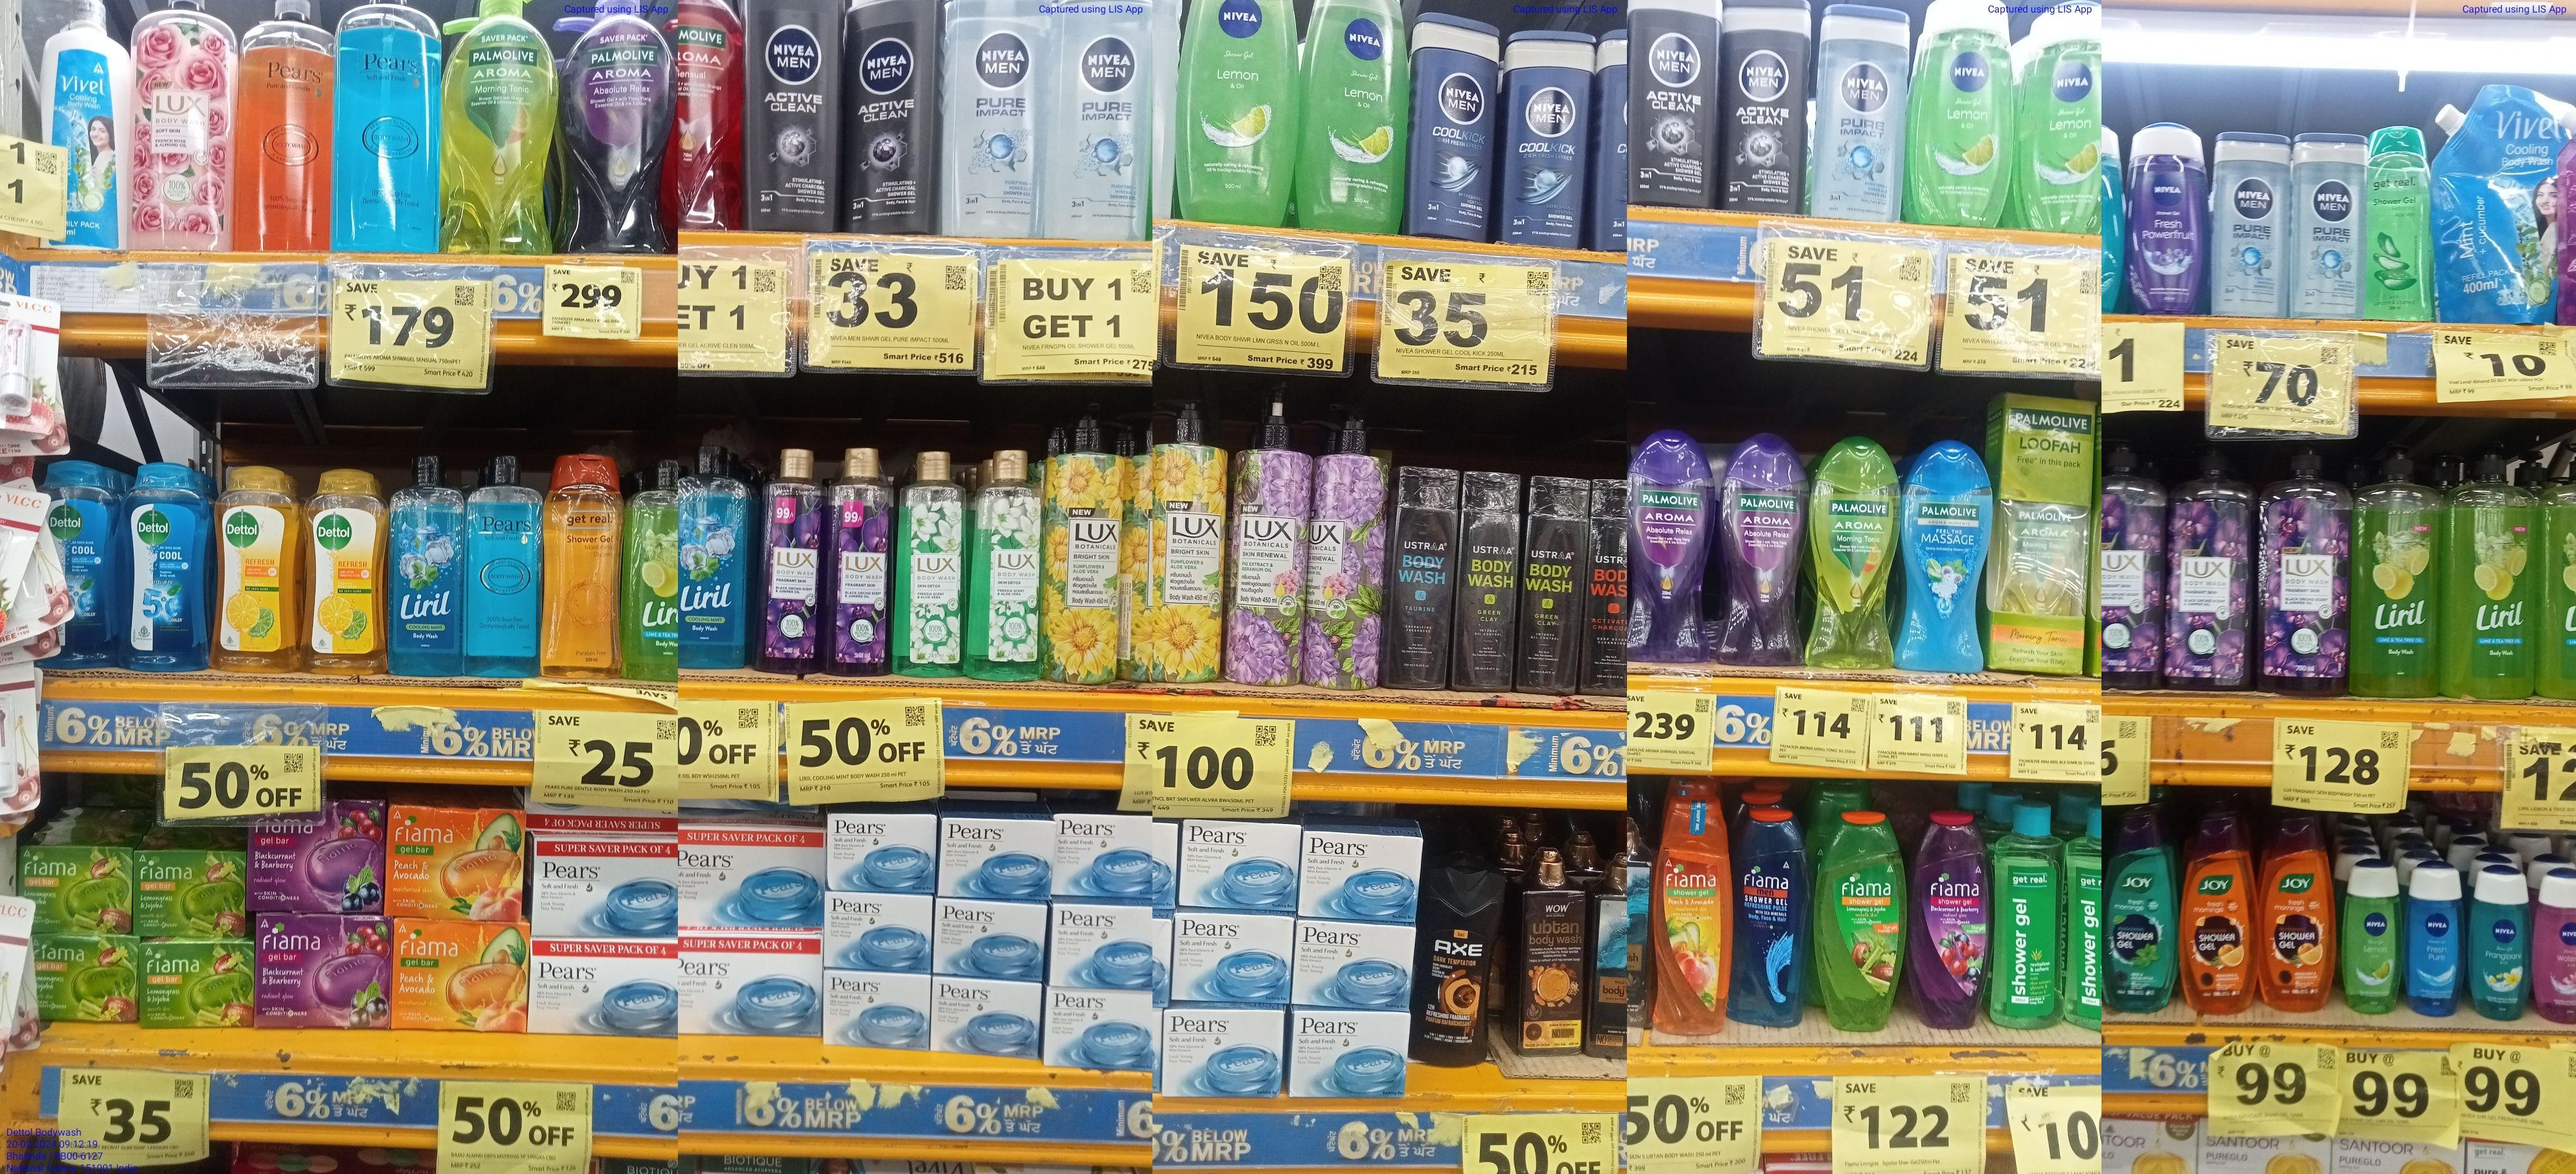Dettol_Bodywash_Cool: (122, 458, 209, 670), (56, 461, 115, 668)
Dettol_Bodywash_Refresh: (301, 458, 383, 678), (215, 466, 297, 672)
Fiama_Shower_Gel_Lemongrass_and_Jojoba_250ML: (1819, 808, 1904, 1033)
Fiama_Shower_Gel_Peach_and_Avocado_250ML: (1658, 783, 1725, 1033)
Get_Real_Shower_Gel_Moisturising_Glycerin_300ML: (544, 442, 624, 676)
Joy_Shower_Gel_Mandarin_and_Lemongrass_250ML: (2182, 811, 2257, 1013), (2262, 818, 2333, 1011)
Joy_Shower_Gel_Mint_and_Eucalyptus_250ML: (2100, 819, 2178, 1010)
Liril_Cooling_Mint_Body_Wash_250ML: (391, 453, 460, 683), (677, 443, 746, 670)
Lux_Black_Orchid_Scent_and_Juniper_Oil_Body_Wash_245ML: (825, 447, 892, 680), (756, 442, 820, 672)
Lux_Body_Wash_Skin_Detox_Freesia_Scent_and_Alove_Vera_245ML: (969, 452, 1040, 683), (895, 447, 963, 678)
Nivea_Shower_Gel_Fresh_Powerfruit_250ML: (2127, 123, 2208, 315)
Nivea_Shower_Gel_Lemon_and_Oil_250ML: (1178, 0, 1301, 220), (1306, 0, 1405, 240), (1919, 3, 2014, 225), (2019, 2, 2101, 233)
Palmolive_Aroma_Moments_Feel_The_Massage_Shower_Gel_250ML: (1901, 447, 1986, 673)
Palmolive_Aroma_Morning_Tonic_Shower_Gel_250ML: (1805, 435, 1897, 670)
Palmolive_Aroma_Relax_250ML: (1718, 437, 1802, 665), (1630, 435, 1713, 663)
Pears_Pure_Glycerin_and_Mint_Extracts_Body_Wash_250ML: (467, 461, 537, 676)
